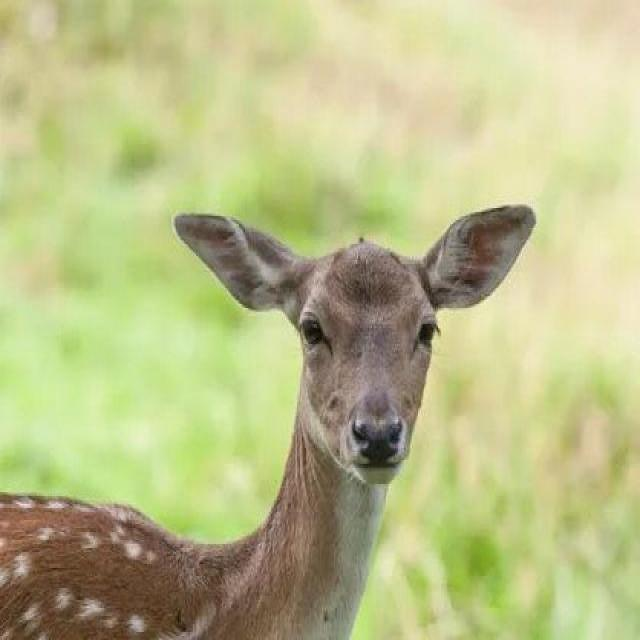deer: (0, 148, 581, 640)
